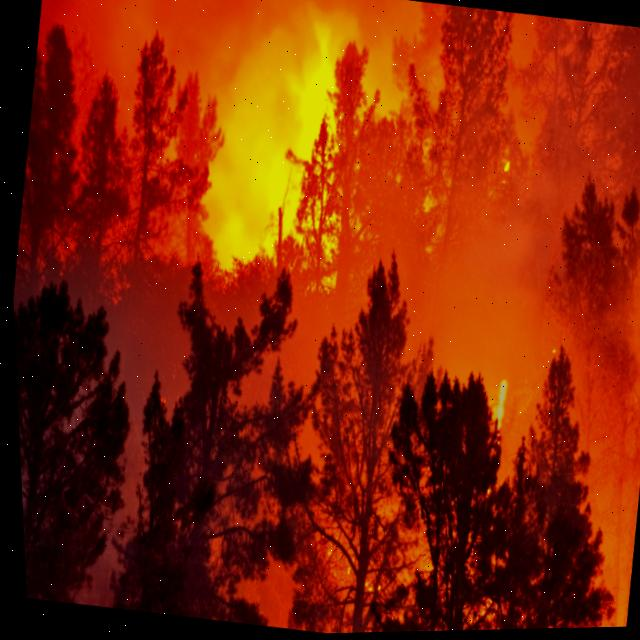fire: (200, 98, 311, 263)
